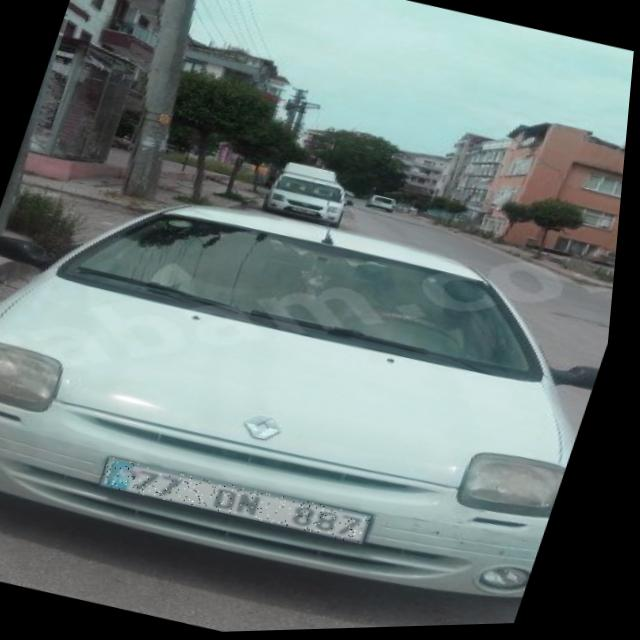license_plate: (104, 451, 385, 553)
